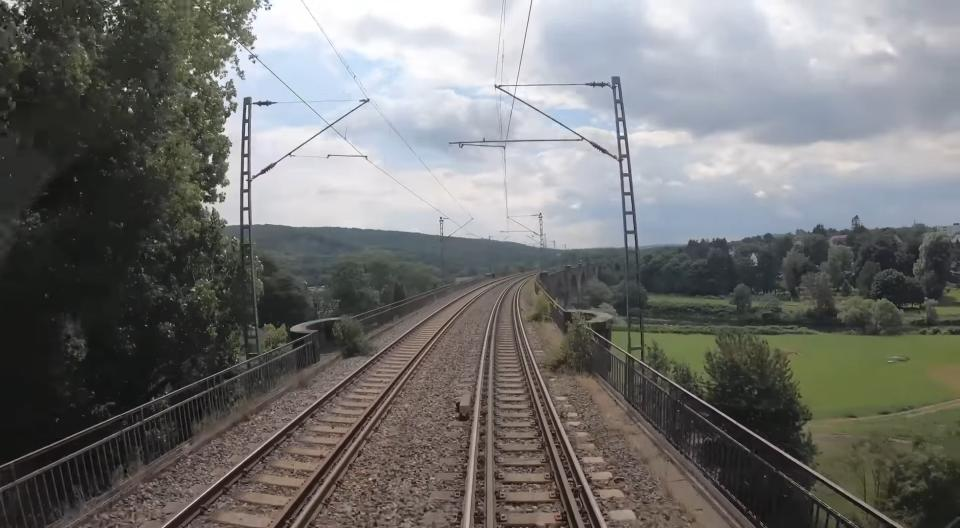Plant: (552, 317, 596, 373), (334, 317, 374, 357), (530, 292, 552, 321)
